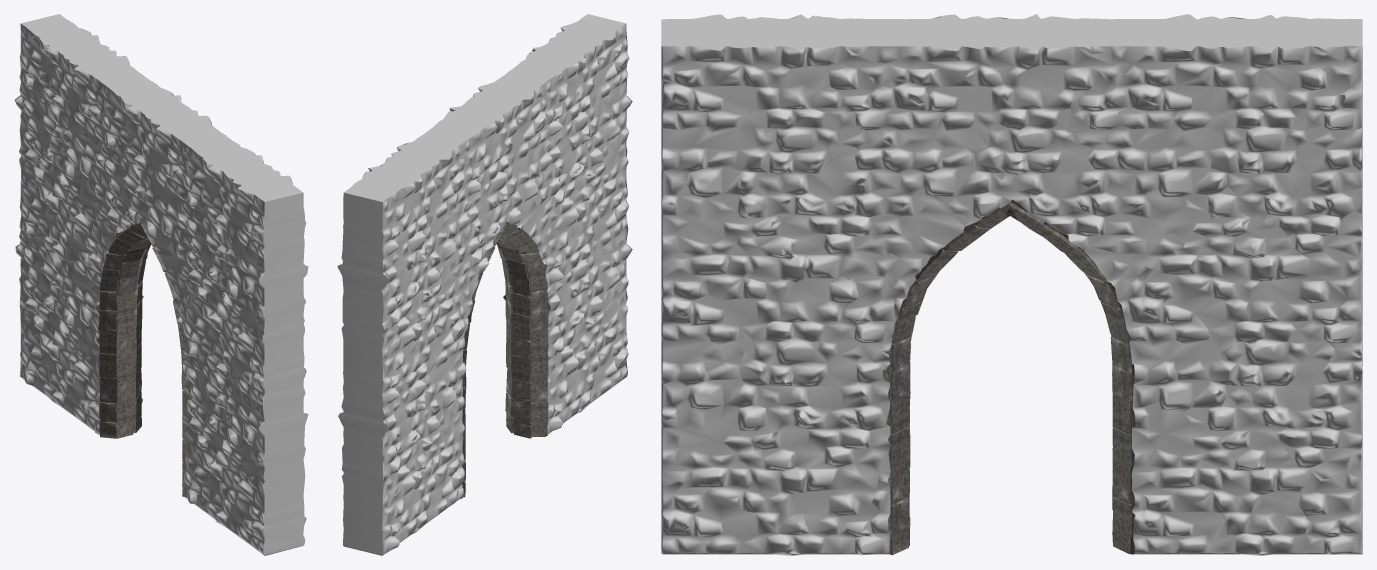
File: SM_Back_Arch.fbx
3 renders of one model, left to right at view 1: azimuth 30°, elevation 25°; view 2: azimuth 150°, elevation 25°; view 3: azimuth 270°, elevation 25°, orthographic. The views are drawn at different scales.
Parts seen in each view (by area): view 1: SM_Back_Arch_LOD0; view 2: SM_Back_Arch_LOD0; view 3: SM_Back_Arch_LOD0.
Part boxes in pixels (left/top/right/bottom): SM_Back_Arch_LOD0: left=14, top=14, right=308, bottom=555; SM_Back_Arch_LOD0: left=337, top=14, right=632, bottom=555; SM_Back_Arch_LOD0: left=661, top=14, right=1362, bottom=555.
Size of the model in its own units: 127 by 1000 by 801.
